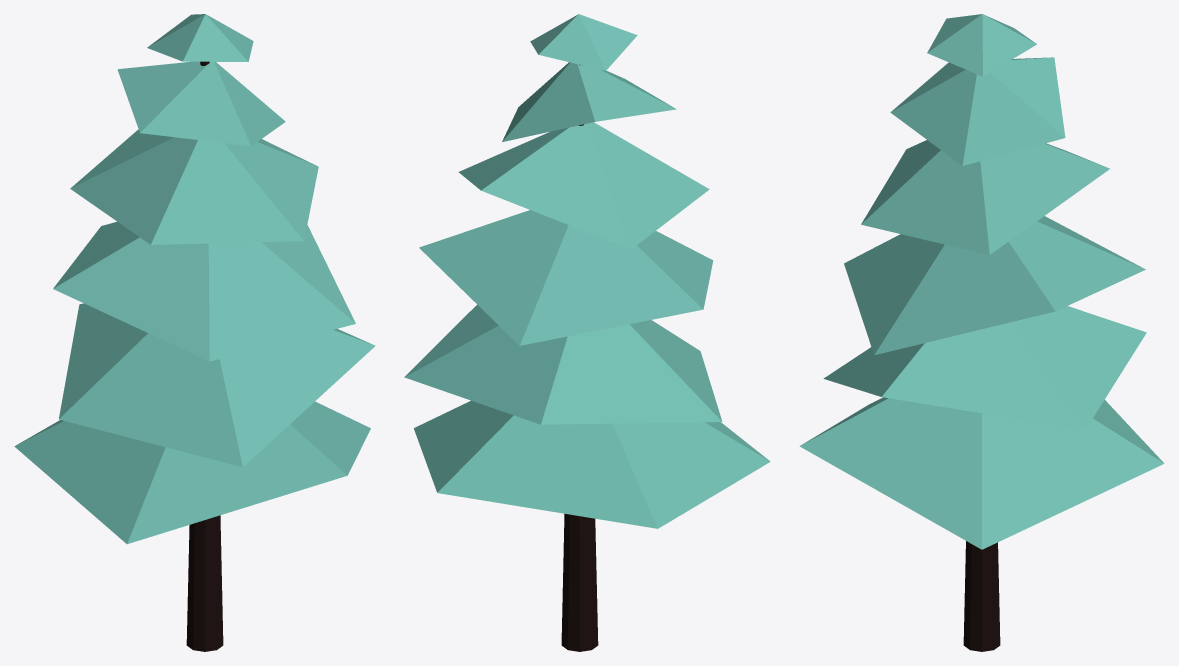
File: Blue_Tree.fbx
The picture shows the model from 3 angles, left to right: view 1: azimuth 30°, elevation 25°; view 2: azimuth 150°, elevation 25°; view 3: azimuth 270°, elevation 25°; orthographic projection.
Visible parts, largest first — view 1: pCone2, pCone3, pCone1, pCone4, pCone5, pCylinder1, pCone6; view 2: pCone1, pCone3, pCone2, pCone4, pCone5, pCylinder1, pCone6; view 3: pCone1, pCone3, pCone2, pCone4, pCone5, pCone6, pCylinder1.
Boxes of the visible parts, <box> form: pCone2: <box>59,303,375,467</box>; pCone3: <box>53,221,355,361</box>; pCone1: <box>14,401,370,544</box>; pCone4: <box>70,129,318,244</box>; pCone5: <box>117,61,285,146</box>; pCylinder1: <box>186,61,223,651</box>; pCone6: <box>147,14,253,61</box>; pCone1: <box>414,400,770,528</box>; pCone3: <box>419,210,713,345</box>; pCone2: <box>404,304,722,424</box>; pCone4: <box>458,122,709,249</box>; pCone5: <box>502,62,676,141</box>; pCylinder1: <box>561,64,598,651</box>; pCone6: <box>530,14,637,70</box>; pCone1: <box>799,397,1164,549</box>; pCone3: <box>844,216,1145,355</box>; pCone2: <box>823,306,1146,429</box>; pCone4: <box>861,140,1109,254</box>; pCone5: <box>890,57,1065,165</box>; pCone6: <box>927,14,1036,76</box>; pCylinder1: <box>963,541,1000,651</box>.
Bounding box in the file's own units: 5.97 × 11.56 × 6.07.
